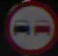No overtake: (5, 7, 53, 46)
